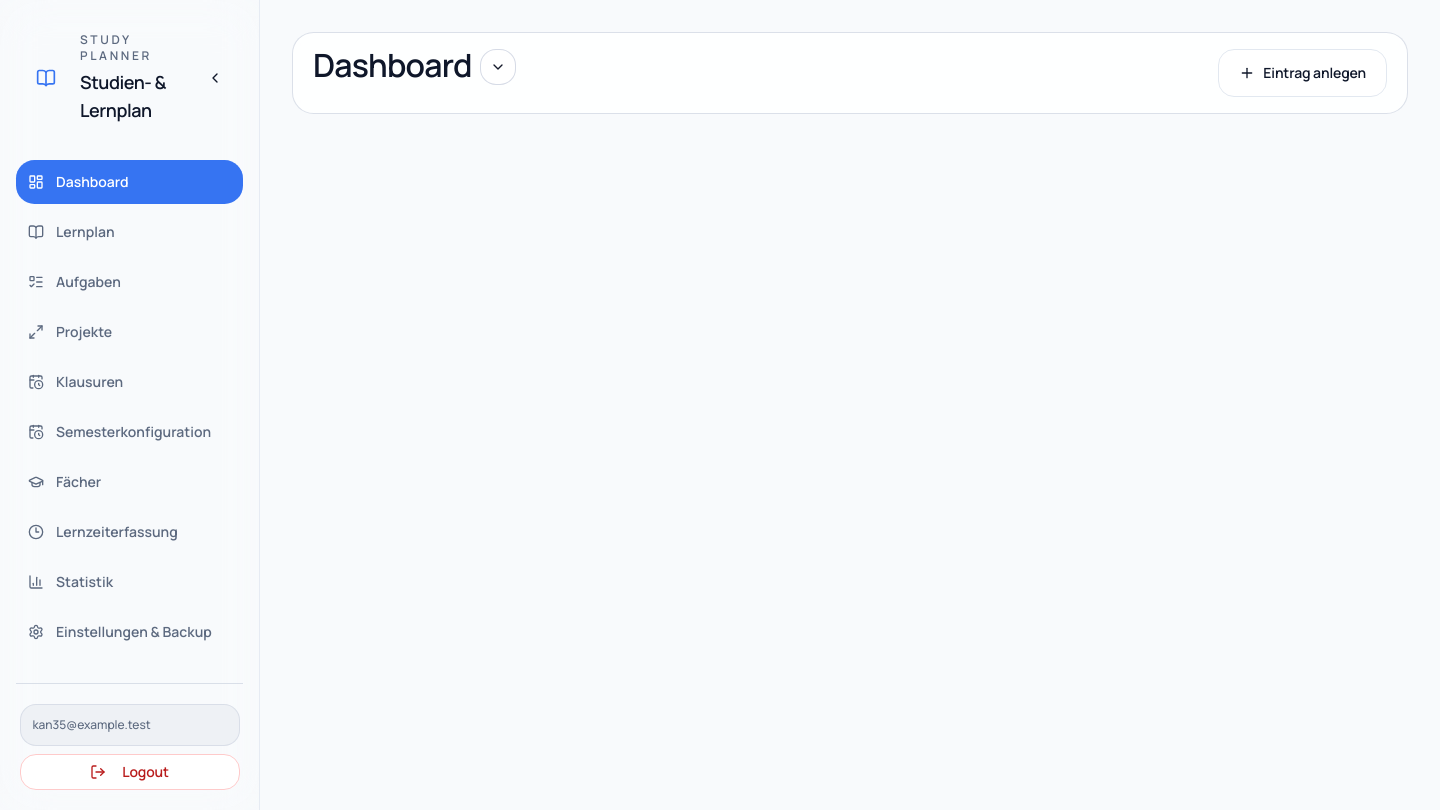
Test: Semesterwechsel › persistiert bei fehlgeschlagener Vorprüfung keinen teilweise gewechselten Zustand
Click the button "Semesterkonfiguration" at (130, 432), box [16, 410, 243, 454]
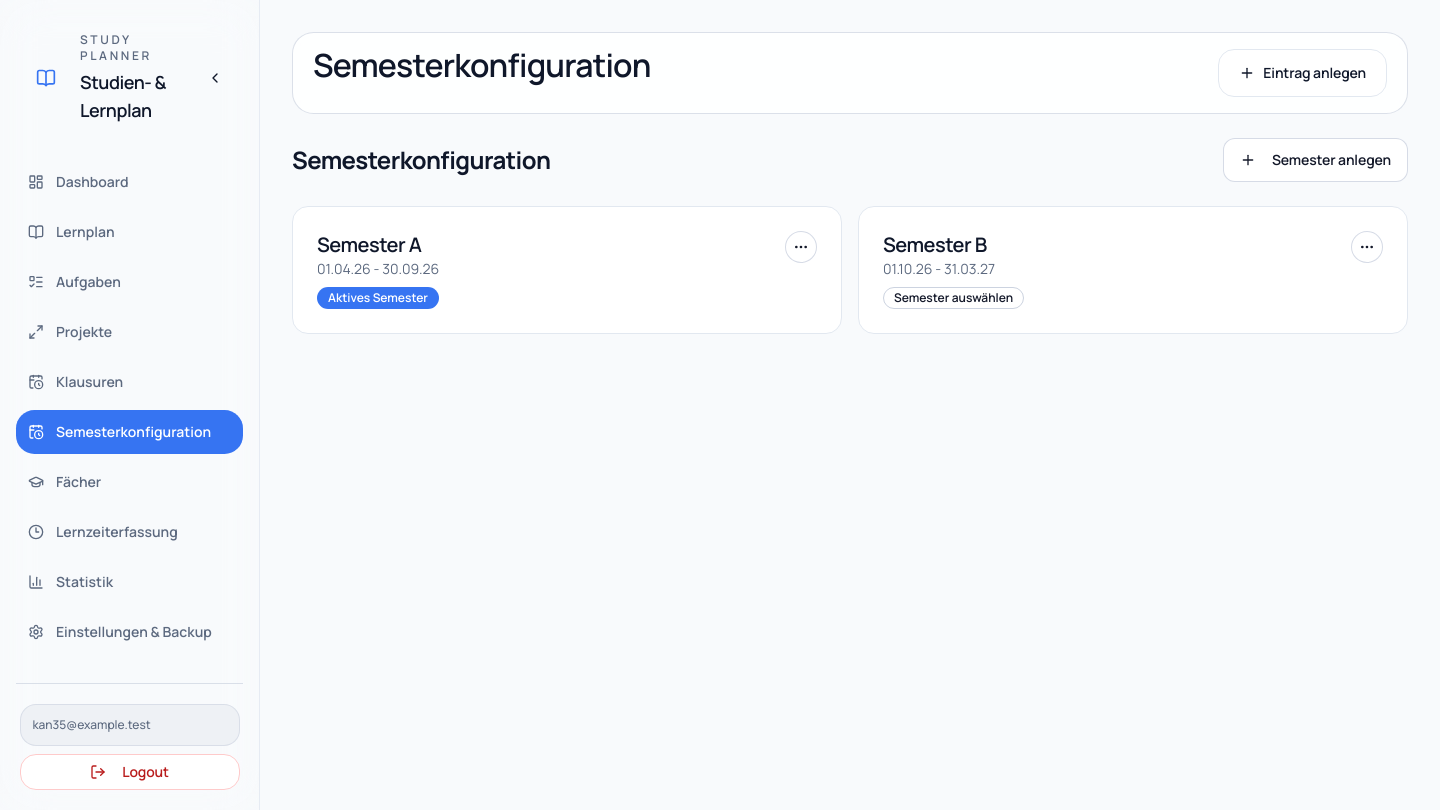
Click the button "Semester B 01.10.26 - 31.03.27 Semester auswählen" at (954, 270), box [883, 231, 1024, 309]
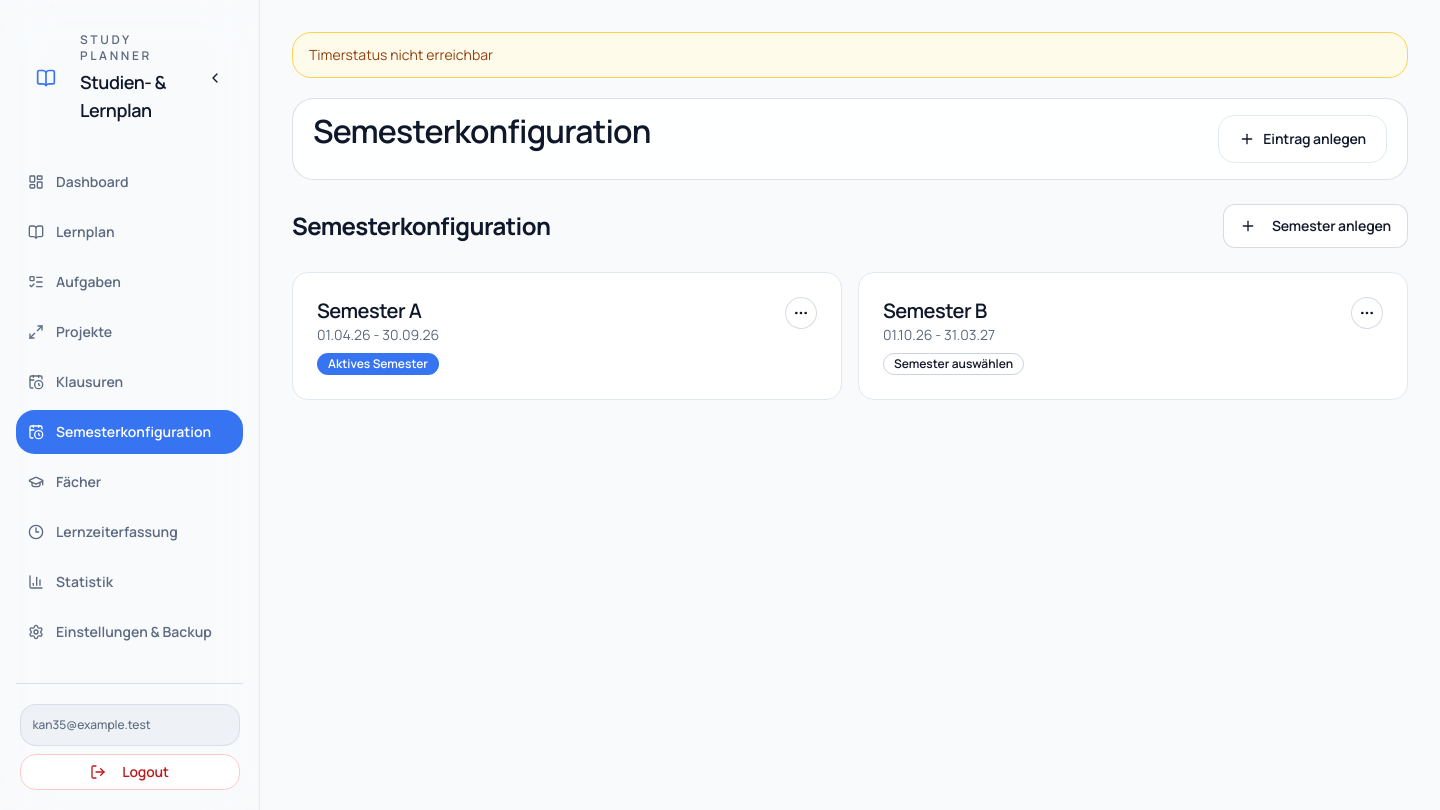
Check: the text "Aktives Semester" is shown, box [317, 353, 439, 375]
Check: the text "Timerstatus nicht erreichbar" is shown, box [292, 32, 1408, 78]
